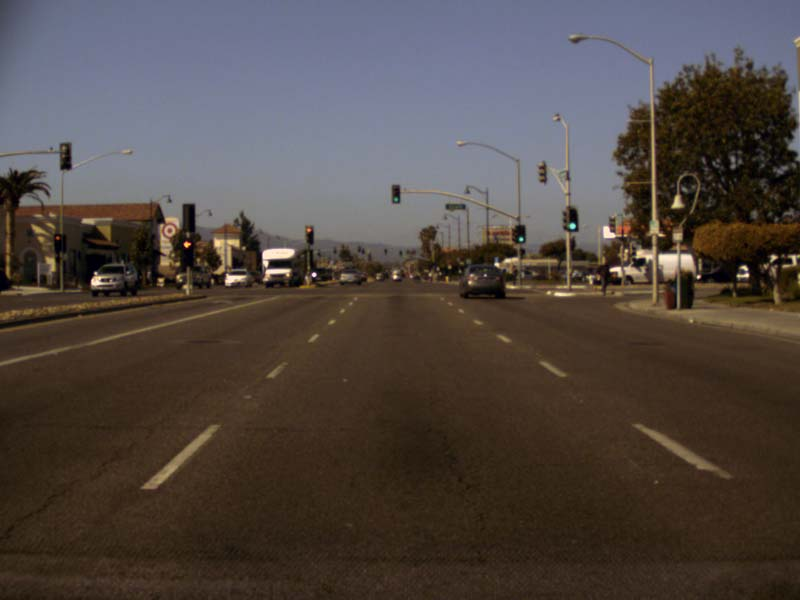Green: (566, 206, 578, 231), (516, 224, 525, 243), (391, 184, 400, 203), (384, 248, 387, 254), (399, 250, 402, 256)
Red: (181, 238, 194, 265), (305, 225, 313, 244), (54, 234, 61, 251)
